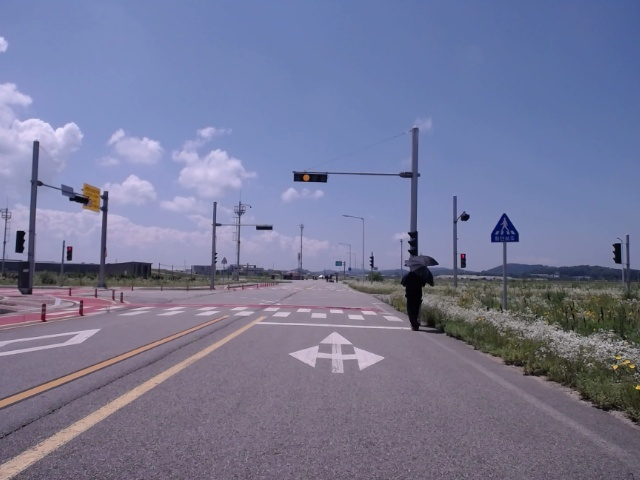orange_4: (294, 172, 327, 183)
